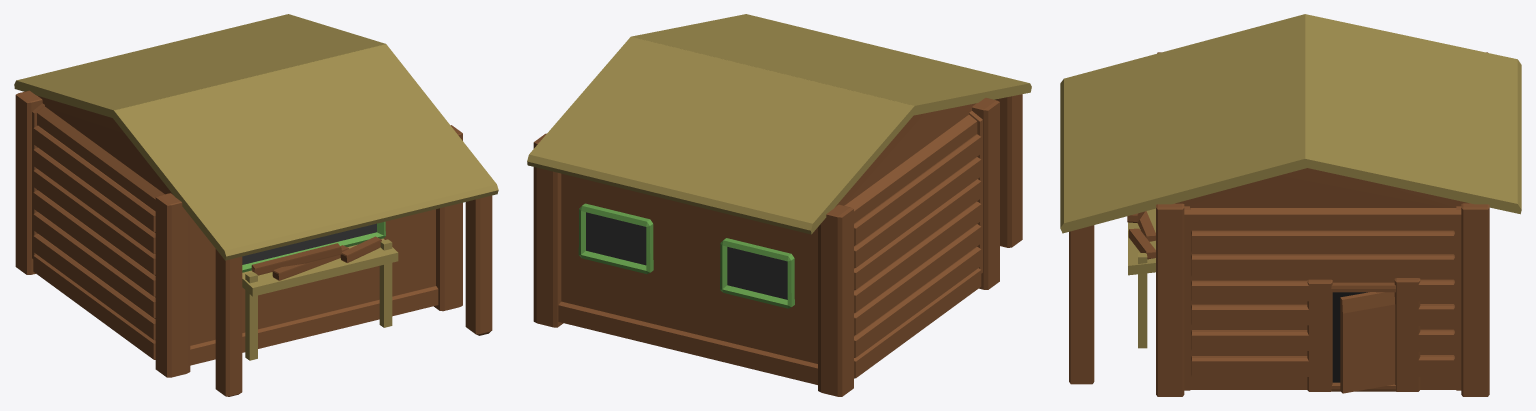
File: House1.dae
3 renders of one model, left to right at view 1: azimuth 30°, elevation 25°; view 2: azimuth 150°, elevation 25°; view 3: azimuth 270°, elevation 25°, orthographic. The views are drawn at different scales.
Parts seen in each view (by area): view 1: Cube.005, Cube.006, Cube, Cube.045, Cube.041, Cube.010, Cube.009, Cube.043, Cube.011, Cube.002, Cube.047, Cube.033 (+14 smaller); view 2: Cube.006, Cube.001, Cube.005, Cube.043, Cube.039, Cube.046, Cube.022, Cube.021, Cube.010, Cube.045, Cube.011, Cube.002 (+8 smaller); view 3: Cube.005, Cube.006, Cube.003, Cube.007, Cube.023, Cube.024, Cube.046, Cube.047, Cube.008, Cube.009, Cube.026, Cube.025 (+12 smaller).
Part boxes in pixels (<box>): Cube.005: <box>112,44,498,260</box>; Cube.006: <box>14,14,385,118</box>; Cube: <box>190,209,435,345</box>; Cube.045: <box>155,193,190,377</box>; Cube.041: <box>190,286,438,365</box>; Cube.010: <box>215,249,242,396</box>; Cube.009: <box>465,195,492,335</box>; Cube.043: <box>15,90,42,274</box>; Cube.011: <box>37,95,172,194</box>; Cube.002: <box>37,107,164,318</box>; Cube.047: <box>434,125,462,311</box>; Cube.033: <box>33,125,155,232</box>; Cube.006: <box>527,36,914,234</box>; Cube.001: <box>561,173,817,363</box>; Cube.005: <box>631,14,1031,115</box>; Cube.043: <box>818,204,853,396</box>; Cube.039: <box>558,301,817,384</box>; Cube.046: <box>533,133,563,327</box>; Cube.022: <box>578,203,653,273</box>; Cube.021: <box>720,238,794,308</box>; Cube.010: <box>995,94,1022,247</box>; Cube.045: <box>972,98,999,289</box>; Cube.011: <box>835,103,976,206</box>; Cube.002: <box>844,115,977,335</box>; Cube.005: <box>1060,14,1307,233</box>; Cube.006: <box>1305,14,1521,214</box>; Cube.003: <box>1184,208,1461,389</box>; Cube.007: <box>1175,168,1468,207</box>; Cube.023: <box>1191,230,1454,253</box>; Cube.024: <box>1191,254,1454,276</box>; Cube.046: <box>1461,203,1489,396</box>; Cube.047: <box>1156,203,1184,396</box>; Cube.008: <box>1340,292,1395,393</box>; Cube.009: <box>1069,225,1094,384</box>; Cube.026: <box>1191,304,1326,325</box>; Cube.025: <box>1191,280,1326,301</box>.
Size of the model in its own units: 8.07 by 9.45 by 5.29.
